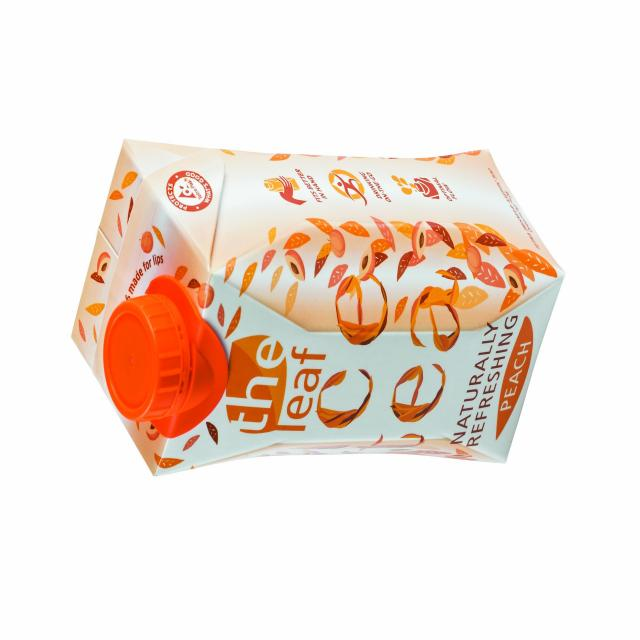non_white_jug: (73, 137, 564, 479)
